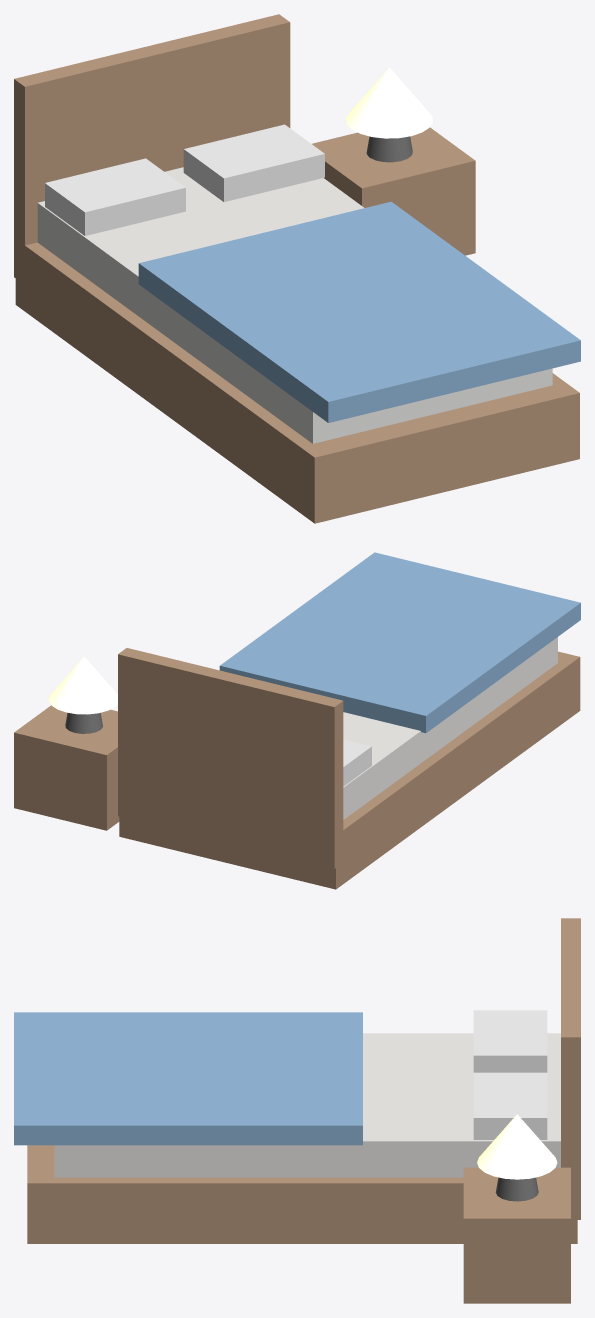
The model's file is bed.glb.
The picture shows the model from 3 angles, top to bottom: view 1: azimuth 30°, elevation 25°; view 2: azimuth 150°, elevation 25°; view 3: azimuth 270°, elevation 25°; orthographic projection. The views are drawn at different scales.
Parts seen in each view (by area): view 1: bed_01_frame, skill_text, bed_03_headboard, bed_02_mattress, bed_06_blanket, bed_07_nightstand, bed, bed_04_pillows, lamp_shade, lamp_base; view 2: bed_03_headboard, skill_text, bed_01_frame, bed_06_blanket, bed_07_nightstand, bed_02_mattress, lamp_shade, bed_04_pillows, lamp_base; view 3: skill_text, bed_01_frame, bed_02_mattress, bed_06_blanket, bed_07_nightstand, bed_03_headboard, bed_04_pillows, bed, lamp_shade, lamp_base.
Part boxes in pixels (left/top/right/bottom): bed_01_frame: left=15, top=239, right=579, bottom=523; skill_text: left=162, top=212, right=556, bottom=390; bed_03_headboard: left=14, top=14, right=290, bottom=278; bed_02_mattress: left=37, top=167, right=552, bottom=443; bed_06_blanket: left=138, top=201, right=580, bottom=422; bed_07_nightstand: left=312, top=127, right=475, bottom=255; bed: left=183, top=124, right=324, bottom=201; bed_04_pillows: left=45, top=158, right=185, bottom=235; lamp_shade: left=346, top=67, right=432, bottom=138; lamp_base: left=366, top=136, right=412, bottom=162; bed_03_headboard: left=118, top=648, right=343, bottom=868; skill_text: left=239, top=561, right=561, bottom=706; bed_01_frame: left=119, top=651, right=580, bottom=889; bed_06_blanket: left=219, top=552, right=580, bottom=733; bed_07_nightstand: left=14, top=705, right=119, bottom=830; bed_02_mattress: left=343, top=637, right=557, bottom=819; lamp_shade: left=48, top=656, right=117, bottom=714; bed_04_pillows: left=343, top=739, right=371, bottom=786; lamp_base: left=65, top=712, right=102, bottom=733; skill_text: left=34, top=1017, right=342, bottom=1119; bed_01_frame: left=27, top=1145, right=577, bottom=1243; bed_02_mattress: left=54, top=1033, right=560, bottom=1177; bed_06_blanket: left=14, top=1012, right=362, bottom=1145; bed_07_nightstand: left=463, top=1167, right=570, bottom=1303; bed_03_headboard: left=561, top=918, right=580, bottom=1219; bed_04_pillows: left=473, top=1010, right=547, bottom=1072; bed: left=473, top=1072, right=547, bottom=1139; lamp_shade: left=477, top=1114, right=557, bottom=1179; lamp_base: left=495, top=1177, right=538, bottom=1201.
Bounding box in the file's own units: 3.15 × 1.7 × 4.22.
